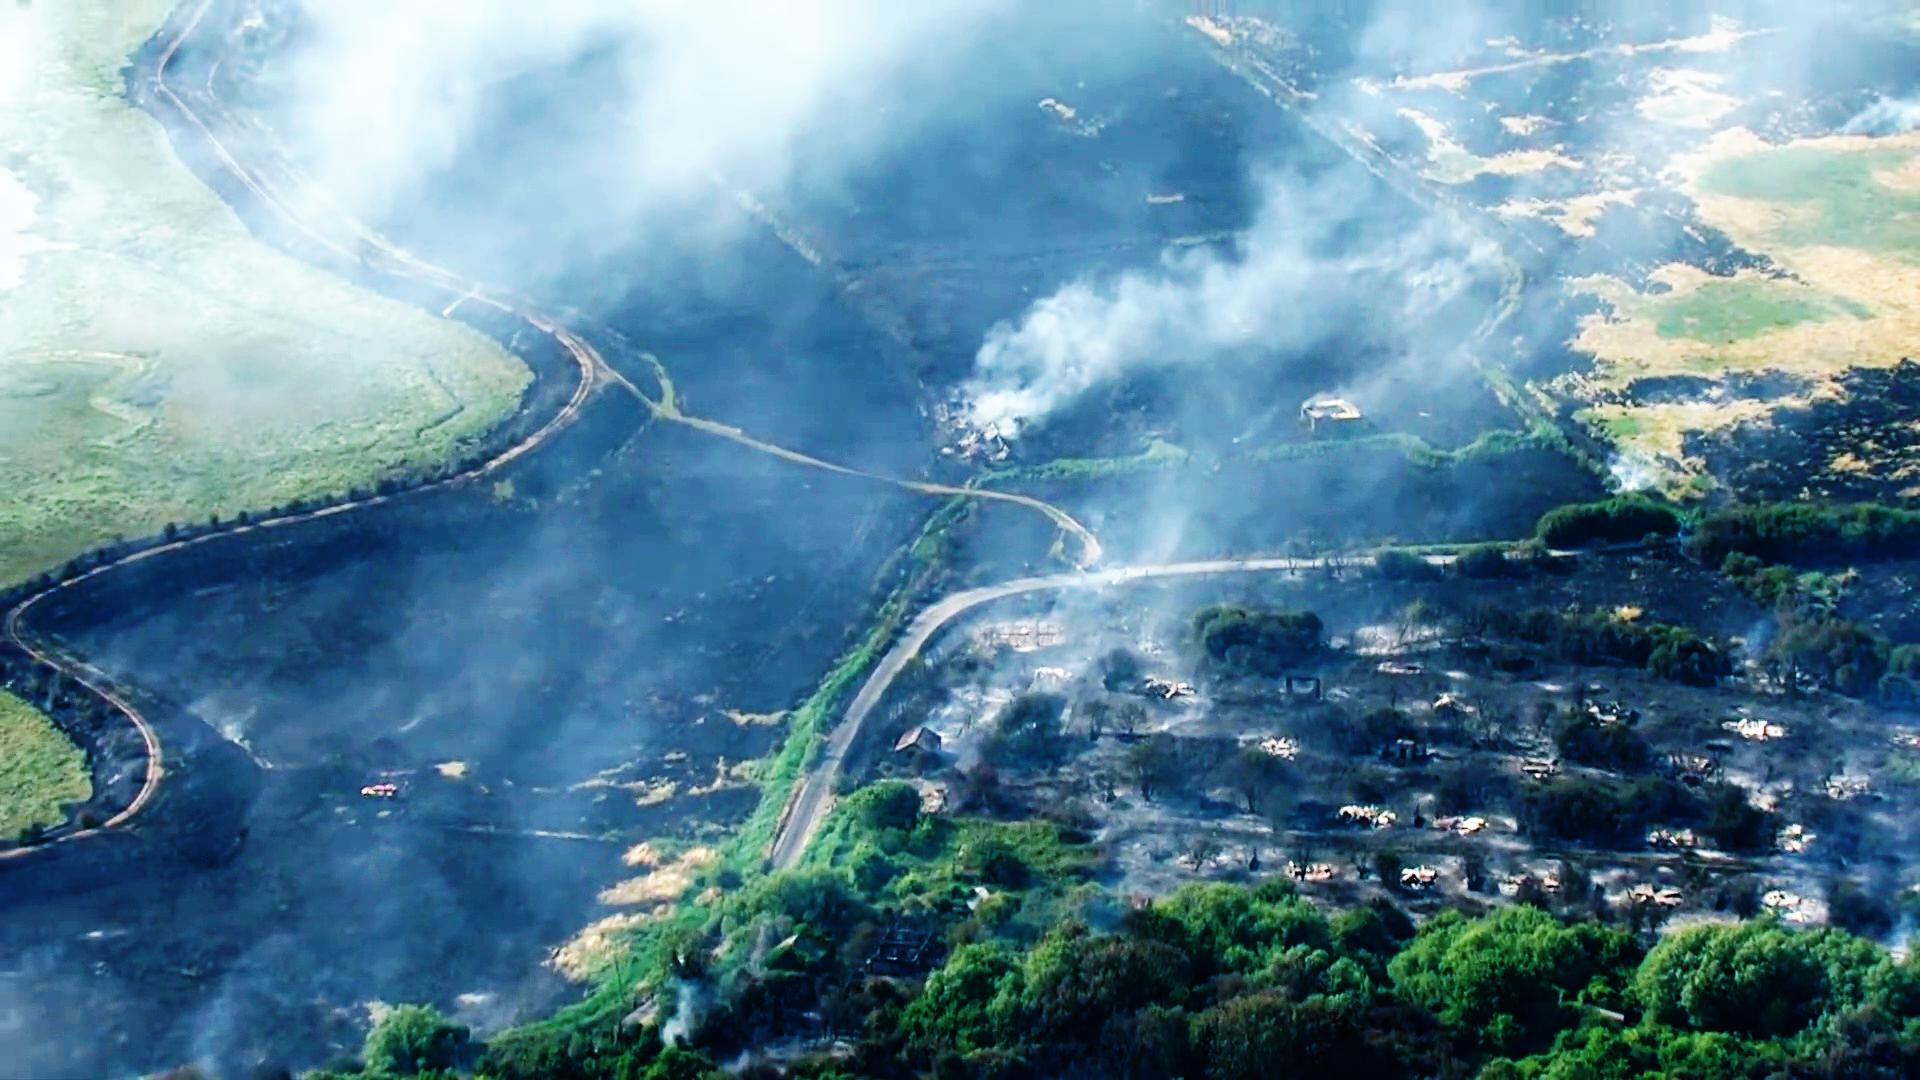smoke: (290, 0, 491, 181), (1004, 293, 1172, 401)
